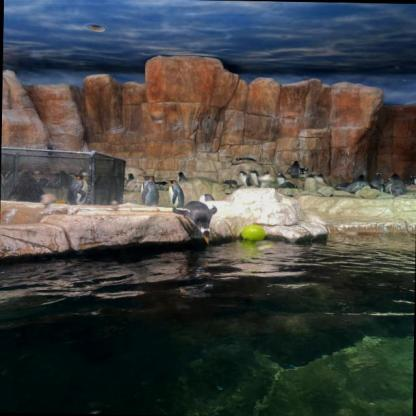penguin: (175, 202, 221, 243), (60, 174, 91, 205), (135, 174, 159, 206), (168, 178, 184, 206), (298, 172, 317, 194), (249, 168, 264, 191), (386, 174, 400, 195), (289, 160, 304, 179), (235, 170, 250, 188), (370, 171, 385, 189), (58, 168, 73, 186), (175, 168, 191, 183), (313, 172, 325, 187), (274, 173, 286, 186), (51, 172, 59, 188), (356, 173, 365, 186), (124, 172, 135, 182)
